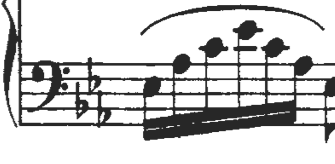bass_clef: (22, 51, 72, 117)
flat: (93, 89, 115, 133), (71, 80, 93, 122), (84, 54, 104, 99)
